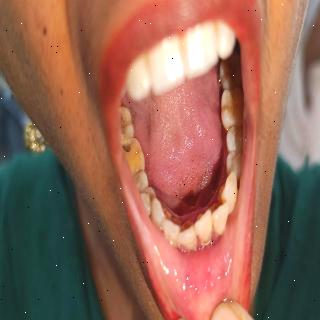calculus: (197, 231, 216, 251), (180, 216, 196, 234), (161, 207, 175, 226), (214, 186, 227, 206)
cavities: (120, 134, 142, 168)
maligned: (193, 209, 213, 237), (179, 217, 195, 247), (211, 201, 229, 226)
